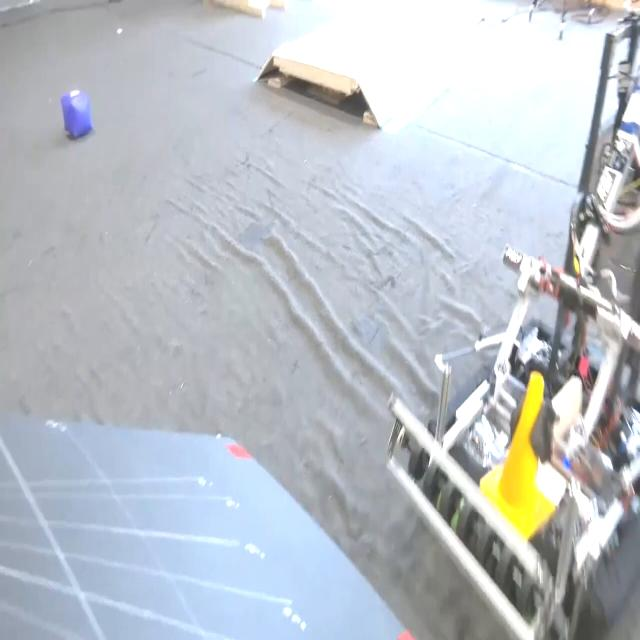frc_cone: (492, 360, 555, 523)
frc_cube: (64, 89, 91, 138)
